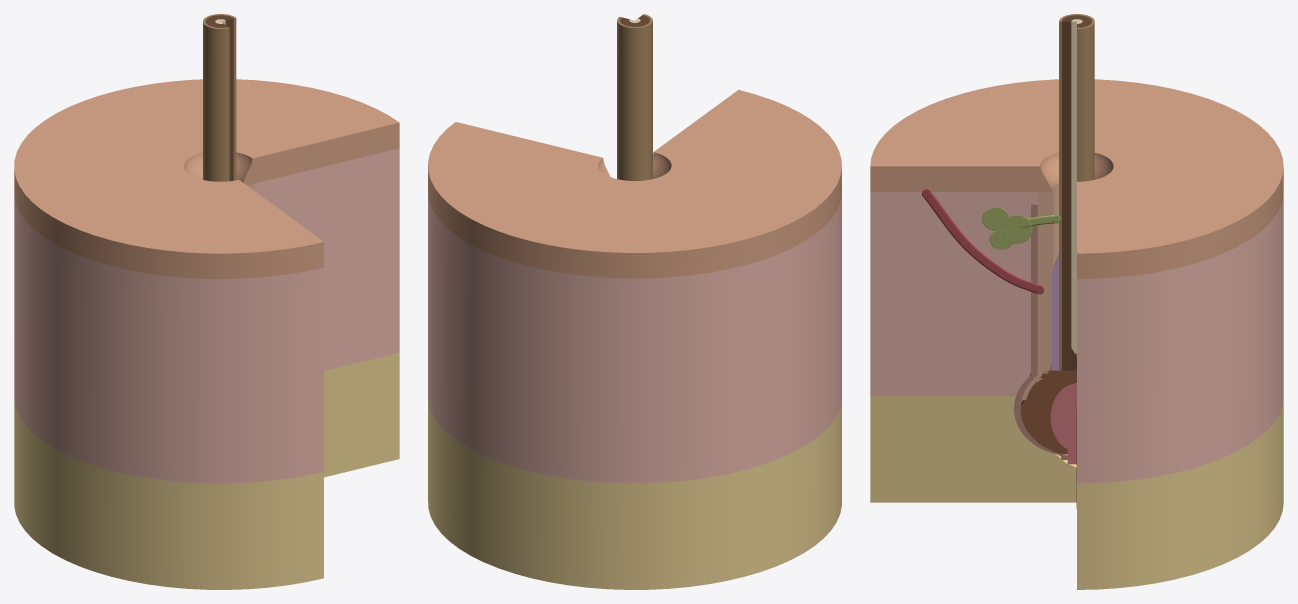
The model's file is hair.glb.
3 views of the same model, side by side, from view 1: azimuth 30°, elevation 25°; view 2: azimuth 150°, elevation 25°; view 3: azimuth 270°, elevation 25° (orthographic).
Visible parts, largest first — view 1: dermis, epidermis, hypodermis, cuticle, cortex; view 2: dermis, epidermis, hypodermis, cuticle; view 3: dermis, epidermis, hypodermis, cuticle, cortex, outer-root-sheath, hair-matrix, medulla, sebaceous-gland, connective-tissue-sheath, arrector-pili, dermal-papilla (+1 smaller).
Boxes of the visible parts, box(x1,y1,x2,y2) form: dermis: box(14, 148, 399, 483); epidermis: box(14, 79, 399, 279); hypodermis: box(14, 352, 399, 589); cuticle: box(203, 14, 236, 181); cortex: box(205, 15, 233, 181); dermis: box(428, 192, 841, 483); epidermis: box(428, 90, 841, 278); hypodermis: box(428, 396, 841, 589); cuticle: box(617, 14, 652, 180); dermis: box(870, 192, 1283, 483); epidermis: box(870, 79, 1283, 279); hypodermis: box(870, 396, 1283, 589); cuticle: box(1059, 14, 1094, 370); cortex: box(1062, 15, 1091, 370); outer-root-sheath: box(1022, 184, 1058, 400); hair-matrix: box(1020, 366, 1076, 453); medulla: box(1071, 19, 1082, 353); sebaceous-gland: box(982, 207, 1060, 249); connective-tissue-sheath: box(1014, 201, 1067, 459); arrector-pili: box(921, 189, 1044, 294); dermal-papilla: box(1050, 383, 1076, 464).
Bounding box in the file's own units: 4.4 × 5.66 × 4.4.
